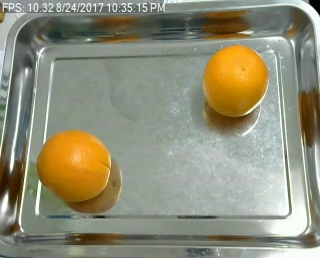Orange: (37, 130, 111, 199), (202, 44, 269, 116)
